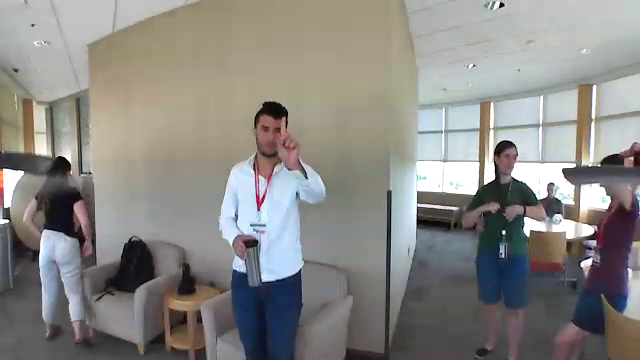up: (275, 113, 304, 167)
